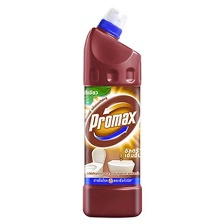cleaning_solution: (78, 1, 144, 219)
